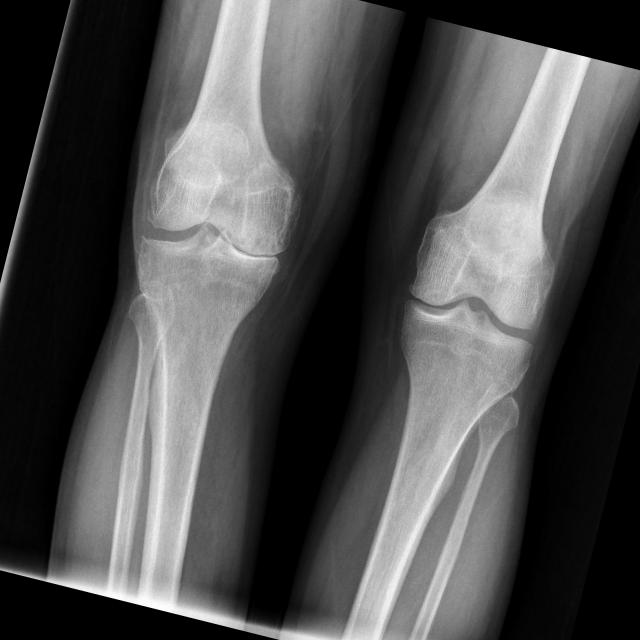Knee: (122, 153, 302, 321), (390, 220, 560, 389)
